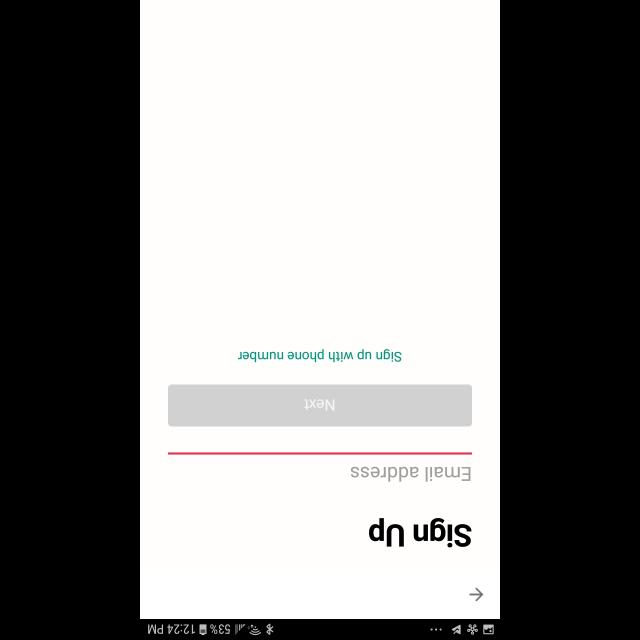icon: (469, 587, 483, 601)
input: (168, 452, 472, 482)
text: (368, 517, 472, 547), (238, 349, 402, 363), (350, 466, 470, 482)
textbutton: (168, 384, 472, 426)
uppertaskbar: (140, 618, 500, 640)
